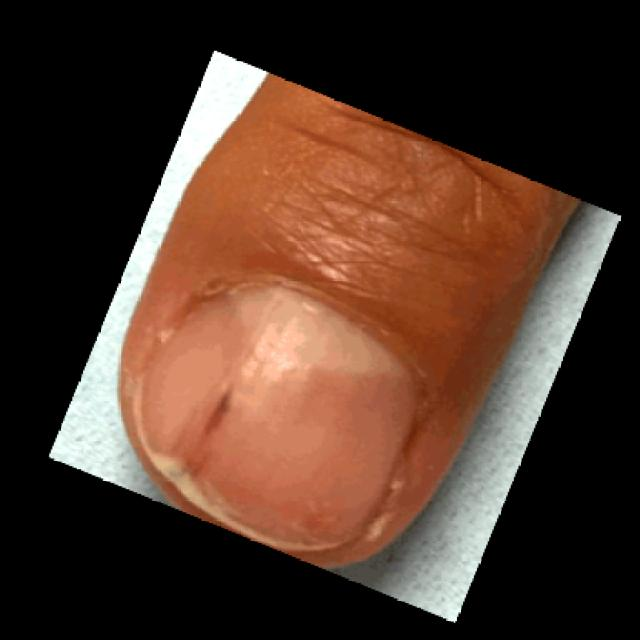Nail: (133, 285, 417, 543)
